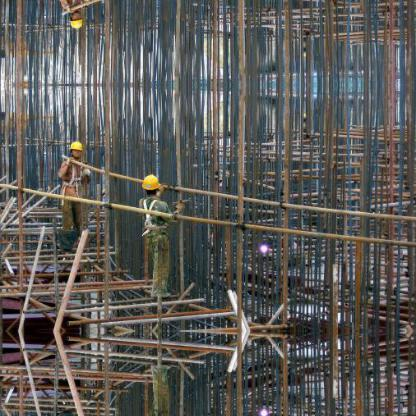helmet: (139, 173, 160, 193), (70, 139, 88, 154)
